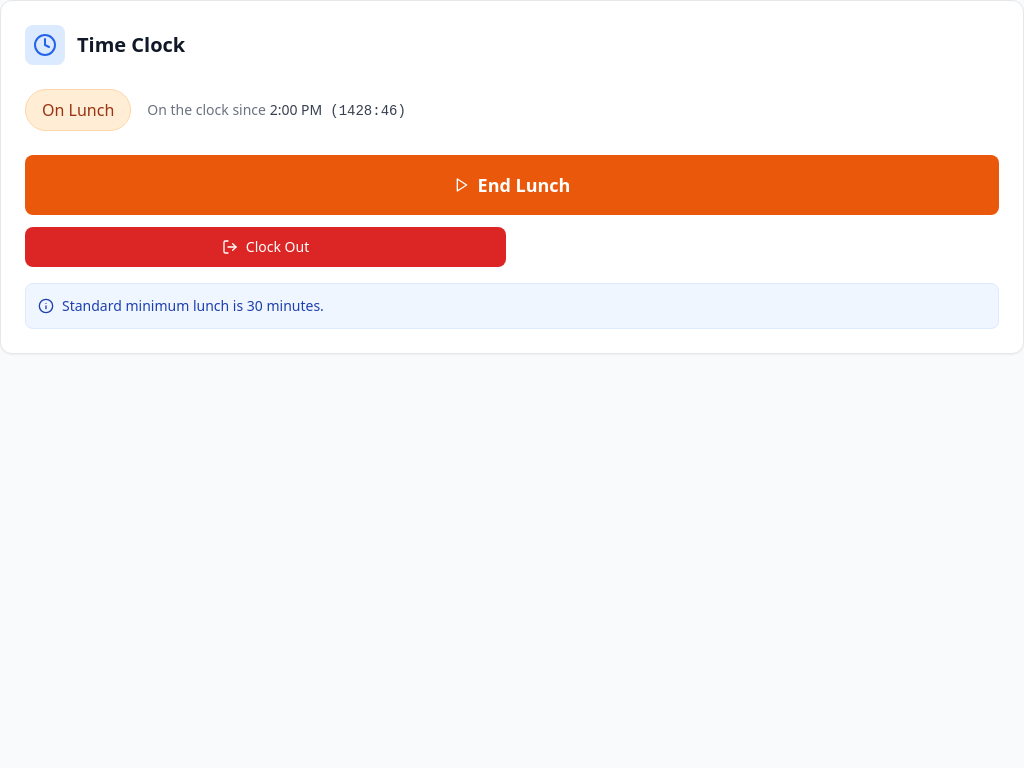
Test: TimeClock — Clock Out while on lunch / unpaid break (explicit confirm) › ON_LUNCH: Clock Out opens a confirmation naming the lunch-start time; it does not fire yet
Click the button "Clock Out" at (266, 247), box [25,227,506,267]
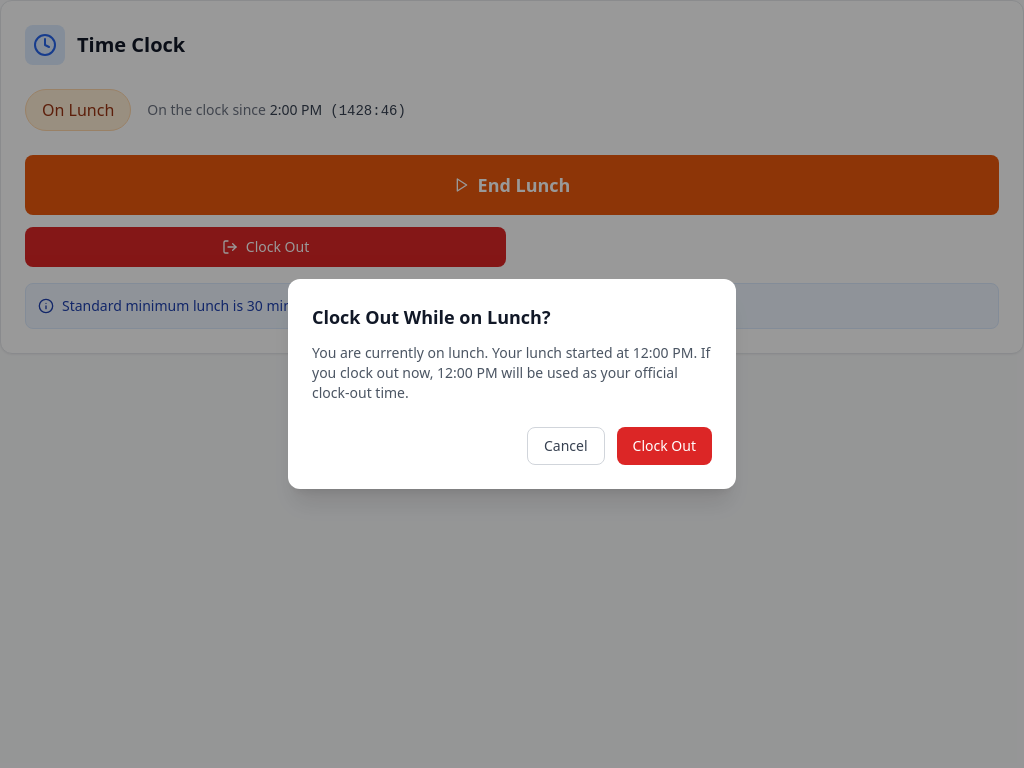
Check: the heading "Clock Out While on Lunch?" is shown, box [312,305,550,329]
Check: the text "Your lunch started at 12:00 PM. If you clock out now, 12:00 PM will be used as your official clock-out time." is shown, box [312,343,710,402]
